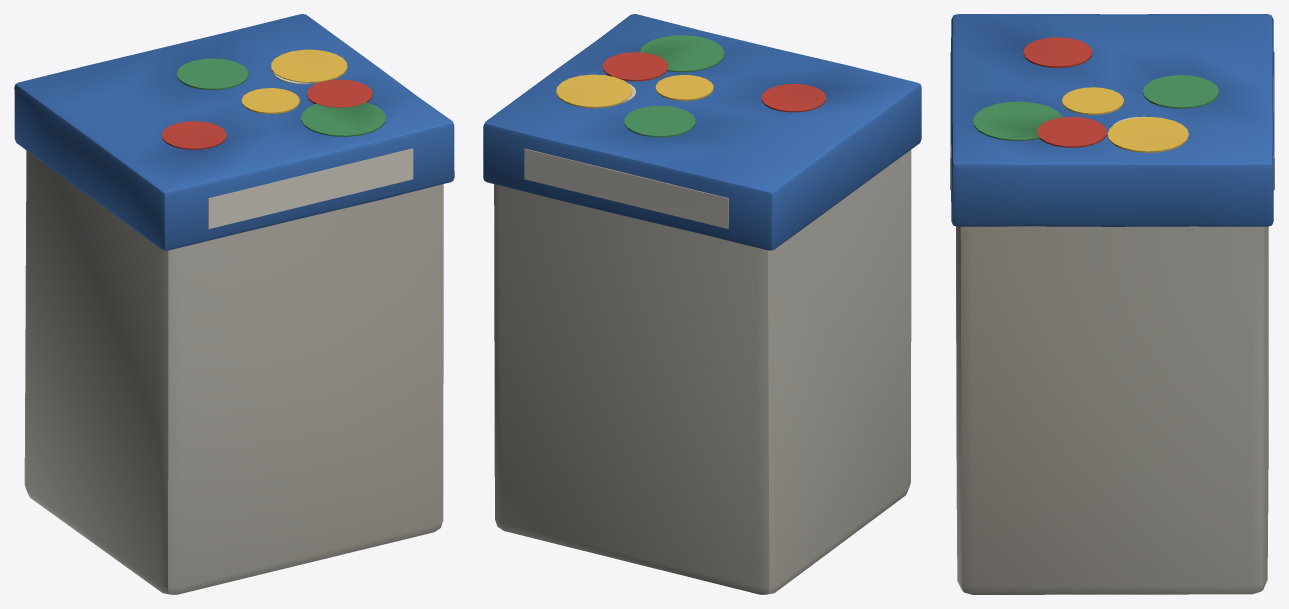
Rendered from den_game_box_b.glb.
3 renders of one model, left to right at view 1: azimuth 30°, elevation 25°; view 2: azimuth 150°, elevation 25°; view 3: azimuth 270°, elevation 25°, orthographic. The views are drawn at different scales.
Parts seen in each view (by area): view 1: den_game_box_b; view 2: den_game_box_b; view 3: den_game_box_b.
Boxes of the visible parts, x1,y1,x2,y2 form: den_game_box_b: (14,14,454,594); den_game_box_b: (483,14,921,594); den_game_box_b: (950,14,1274,594).
Size of the model in its own units: 10.02 by 13.62 by 9.06.
